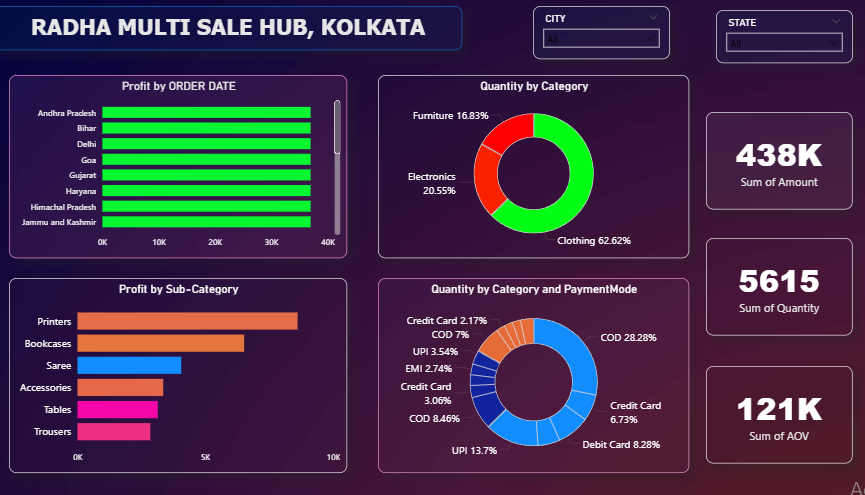

Layout of this report page (visuals, bound fields, positions):
{"tool":"powerbi","page":{"name":"Page 1","canvas":[1280,720],"ordinal":0},"visuals":[{"type":"textbox","box":[11.8,13.4,677,63.8],"z":0},{"type":"barChart","title":"Profit by ORDER DATE","fields":{"Y":["Sum(Details.Profit)"],"Category":["Orders.STATE"]},"box":[33.6,112.5,488.8,265.4],"z":1000},{"type":"barChart","title":"Profit by Sub-Category","fields":{"Category":["Details.Sub-Category"],"Y":["Sum(Details.Profit)"]},"box":[33.6,406.5,488.8,282.2],"z":2000},{"type":"donutChart","title":"Quantity by Category","fields":{"Category":["Details.Category"],"Y":["Sum(Details.Quantity)"]},"box":[566.1,112.5,450.2,265.4],"z":3000},{"type":"donutChart","title":"Quantity by Category and PaymentMode","fields":{"Category":["Details.Category"],"Y":["Sum(Details.Quantity)"],"Series":["Details.PaymentMode"]},"box":[566.1,406.5,450.2,282.2],"z":4000},{"type":"card","fields":{"Values":["Sum(Details.Amount)"]},"box":[1041.5,166.3,211.7,141.1],"z":5000},{"type":"card","fields":{"Values":["Sum(Details.Quantity)"]},"box":[1041.5,347.7,211.7,141.1],"z":6000},{"type":"card","fields":{"Values":["Sum(Details.AOV)"]},"box":[1041.5,534.2,211.7,141.1],"z":7000},{"type":"slicer","fields":{"Values":["Orders.STATE"]},"box":[1054.9,18.5,198.2,77.3],"z":8000},{"type":"slicer","fields":{"Values":["Orders.CITY"]},"box":[791.2,13.4,198.2,77.3],"z":9000}]}

Visuals, with their boxes in screenshot pixels (x1, y1, x2, y2), scaled from the page's 1280x720 canvas onto the 865x495 screenshot:
textbox: [left=8, top=9, right=465, bottom=53]
"Profit by ORDER DATE" barChart: [left=23, top=77, right=353, bottom=260]
"Profit by Sub-Category" barChart: [left=23, top=279, right=353, bottom=473]
"Quantity by Category" donutChart: [left=383, top=77, right=687, bottom=260]
"Quantity by Category and PaymentMode" donutChart: [left=383, top=279, right=687, bottom=473]
card - Sum(Details.Amount): [left=704, top=114, right=847, bottom=211]
card - Sum(Details.Quantity): [left=704, top=239, right=847, bottom=336]
card - Sum(Details.AOV): [left=704, top=367, right=847, bottom=464]
slicer - Orders.STATE: [left=713, top=13, right=847, bottom=66]
slicer - Orders.CITY: [left=535, top=9, right=669, bottom=62]
